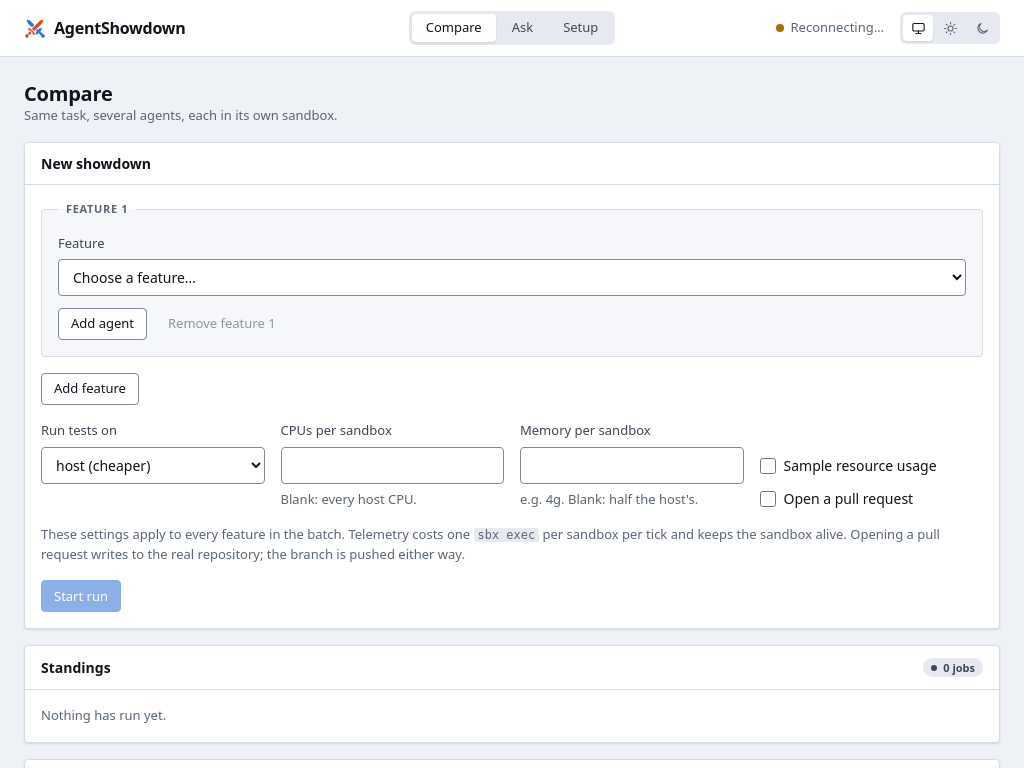
Test: App sections › switches to the setup view
This screenshot has width=1024, height=768.
Step 1. Click the tab "Setup" → (581, 28), box [549,14,612,42]
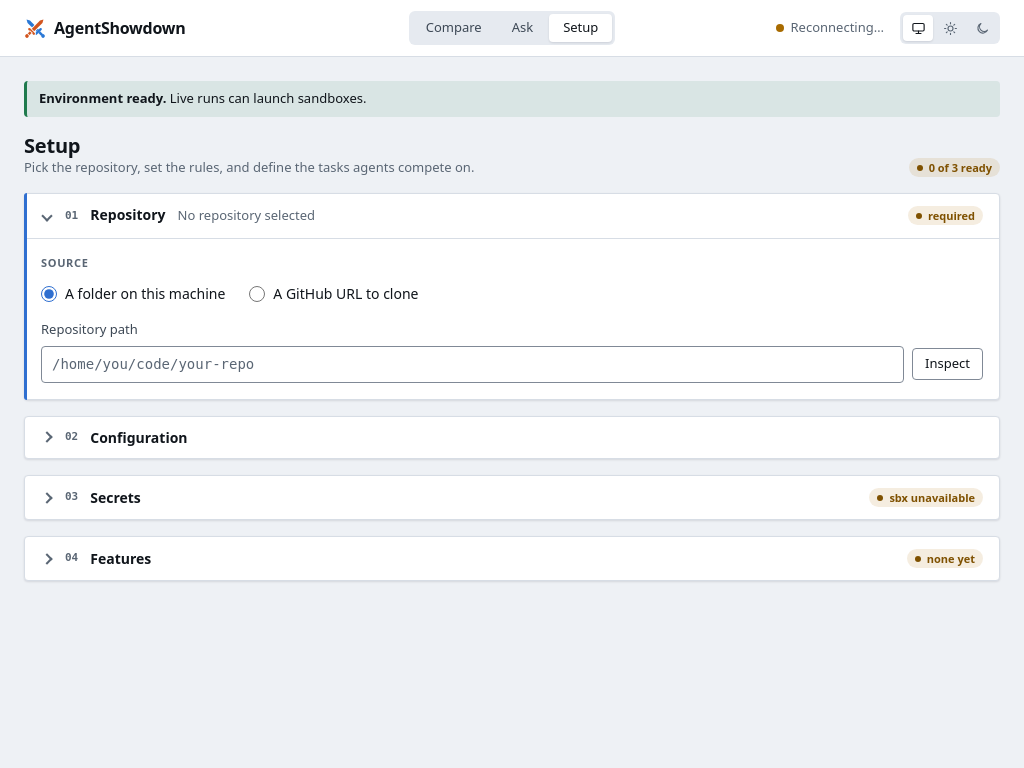
Expected: the heading "Repository" is shown, [90,206,166,224]
Expected: the heading "Features" is shown, [90,550,151,567]
